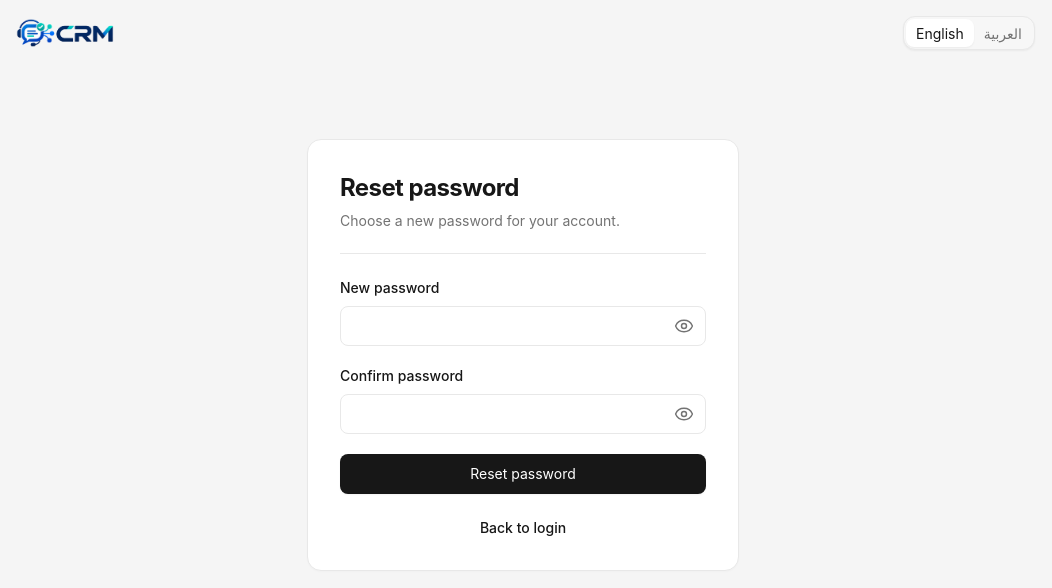
Scenario: ResetPasswordPage › shows the success panel after a successful reset
Type "newpassword1" into the password field labelled "New password" at (523, 326), box [340, 306, 706, 346]
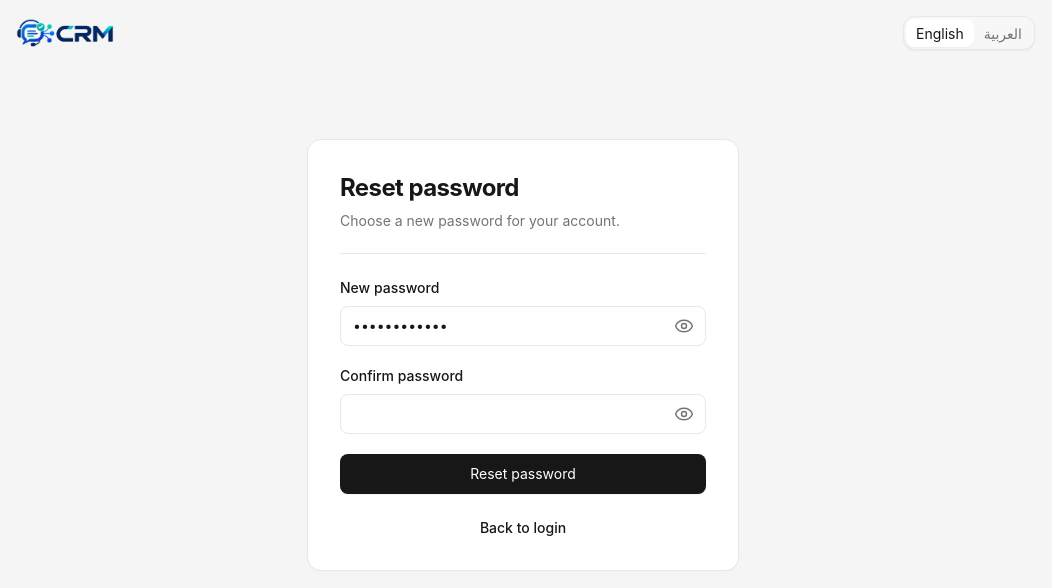
Type "newpassword1" into the password field labelled "Confirm password" at (523, 414), box [340, 394, 706, 434]
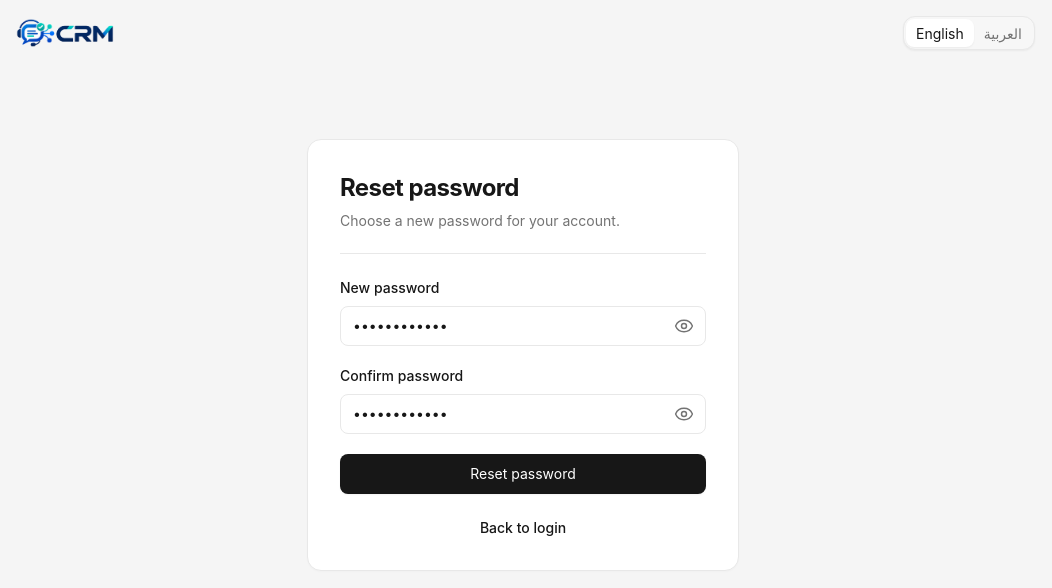
Click the button "Reset password" at (523, 474), box [340, 454, 706, 494]
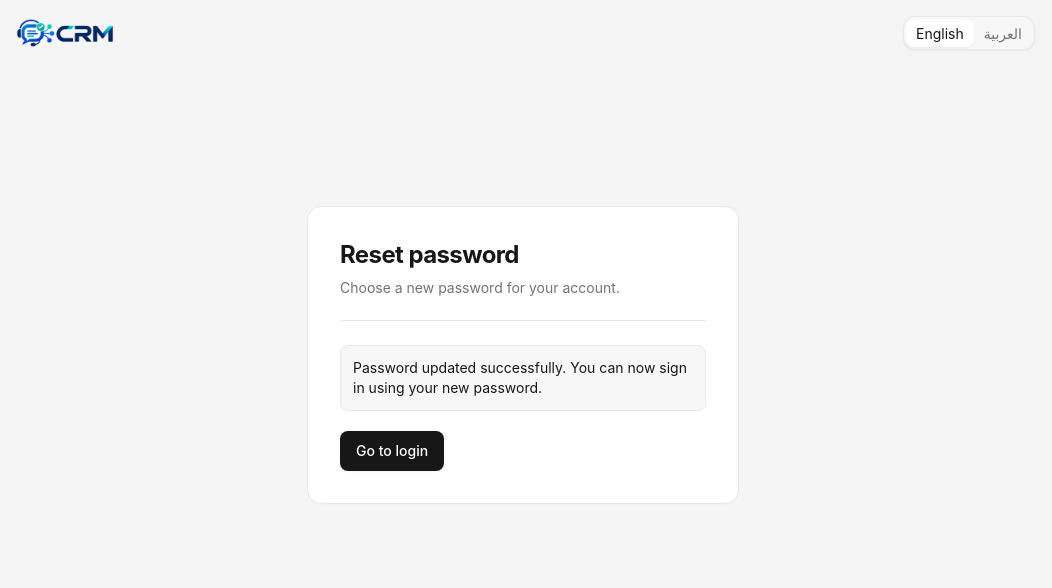
Now the text "Password updated successfully. You can now sign in using your new password." is shown, box [340, 345, 706, 411]
